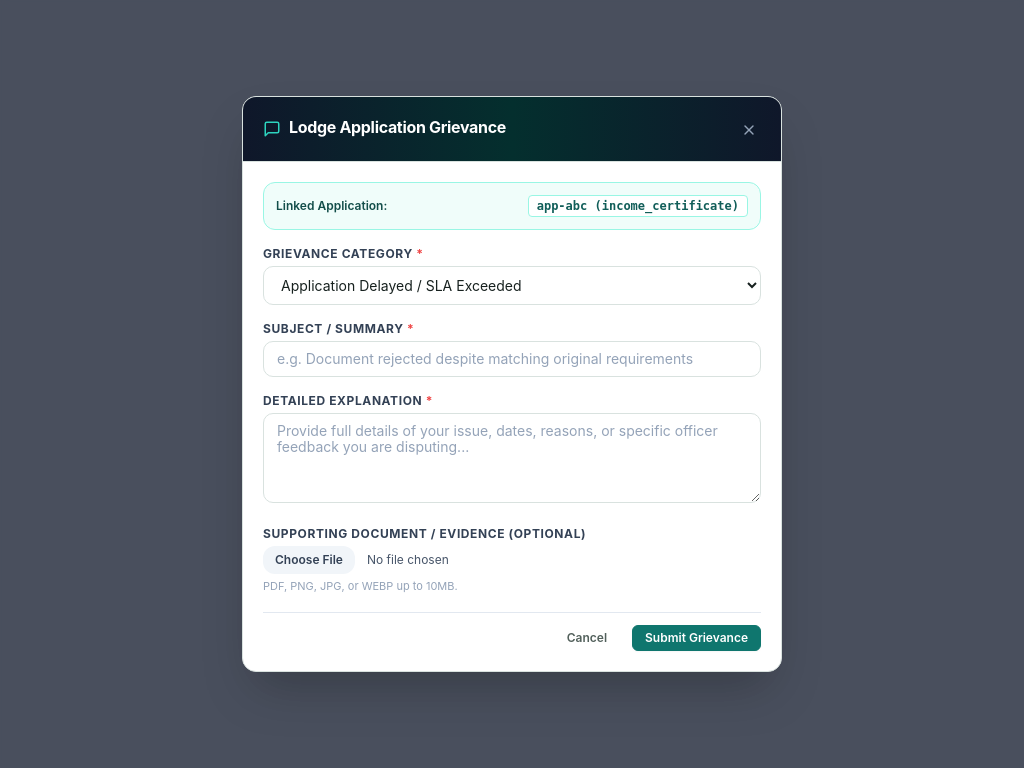
Test case: Civic Grievance & Escalation Module Frontend Tests › renders RaiseGrievanceModal and submits new grievance
Expected: the heading "Lodge Application Grievance" is shown, top-left (289, 115), bottom-right (506, 139)
Expected: the text "app-abc (income_certificate)" is shown, top-left (528, 195), bottom-right (748, 217)
Note: Fill subject and description
Replace the text in the field labelled "Subject / Summary *" with "Delay in processing" at {"x": 512, "y": 359}, box top-left (263, 341), bottom-right (761, 377)
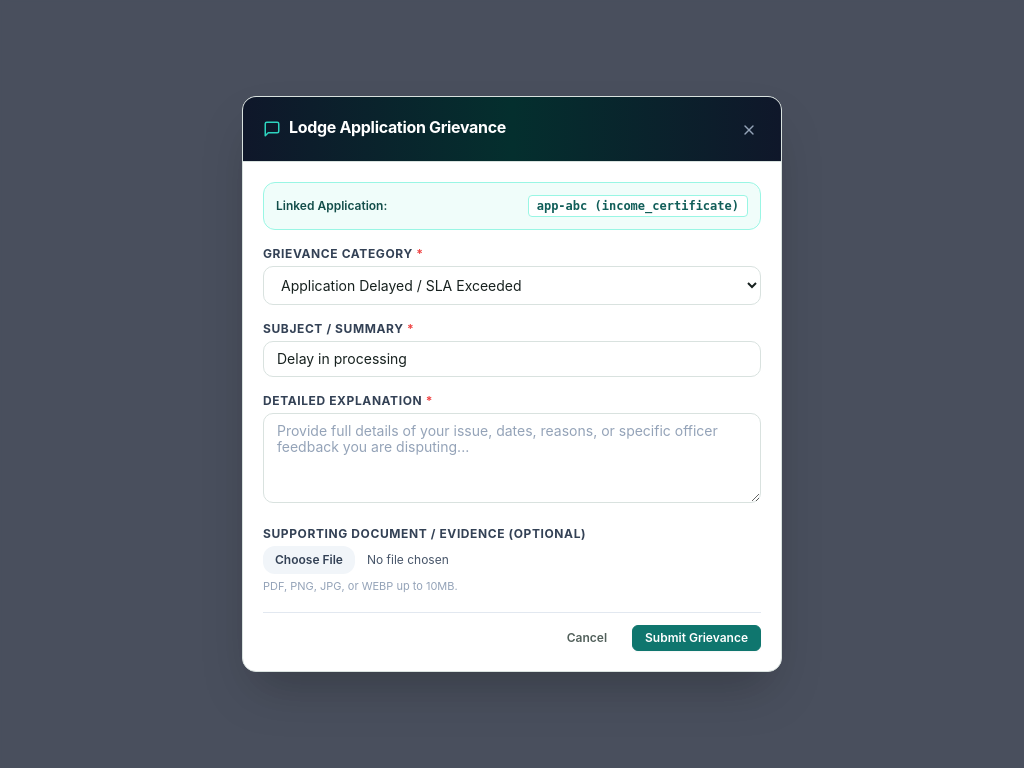
Replace the text in the text box labelled "Detailed Explanation *" with "My application has been pending past the statutory turnaround time." at {"x": 512, "y": 458}, box top-left (263, 413), bottom-right (761, 503)
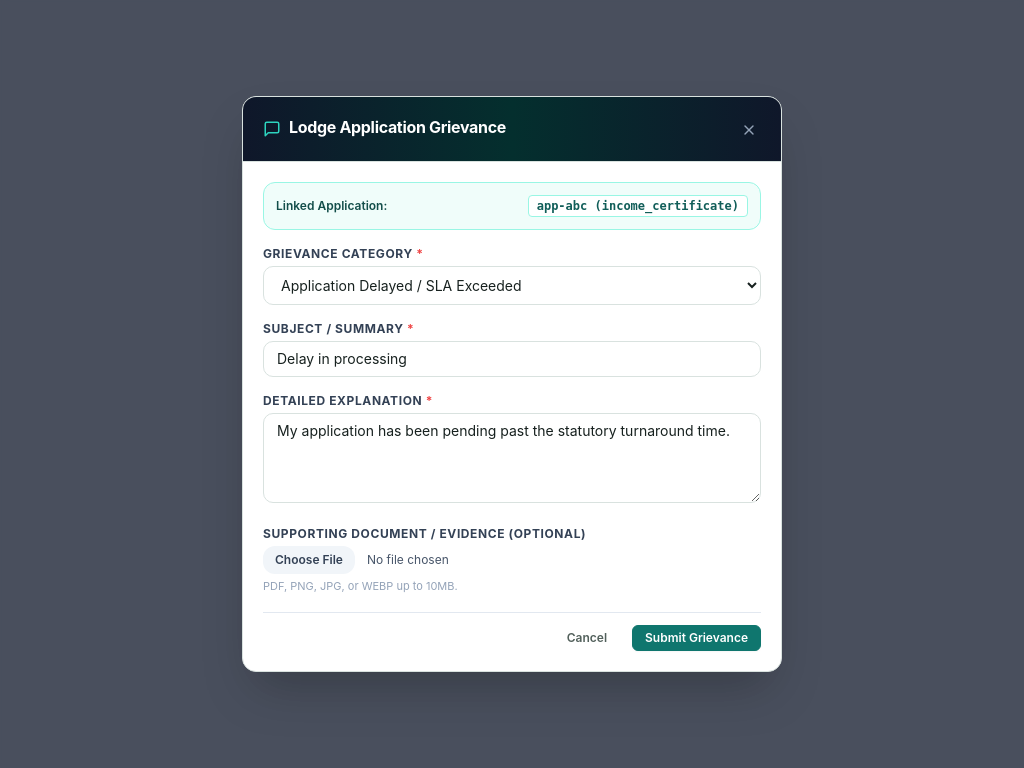
Click the button "Submit Grievance" at {"x": 696, "y": 638}, box top-left (632, 625), bottom-right (761, 651)
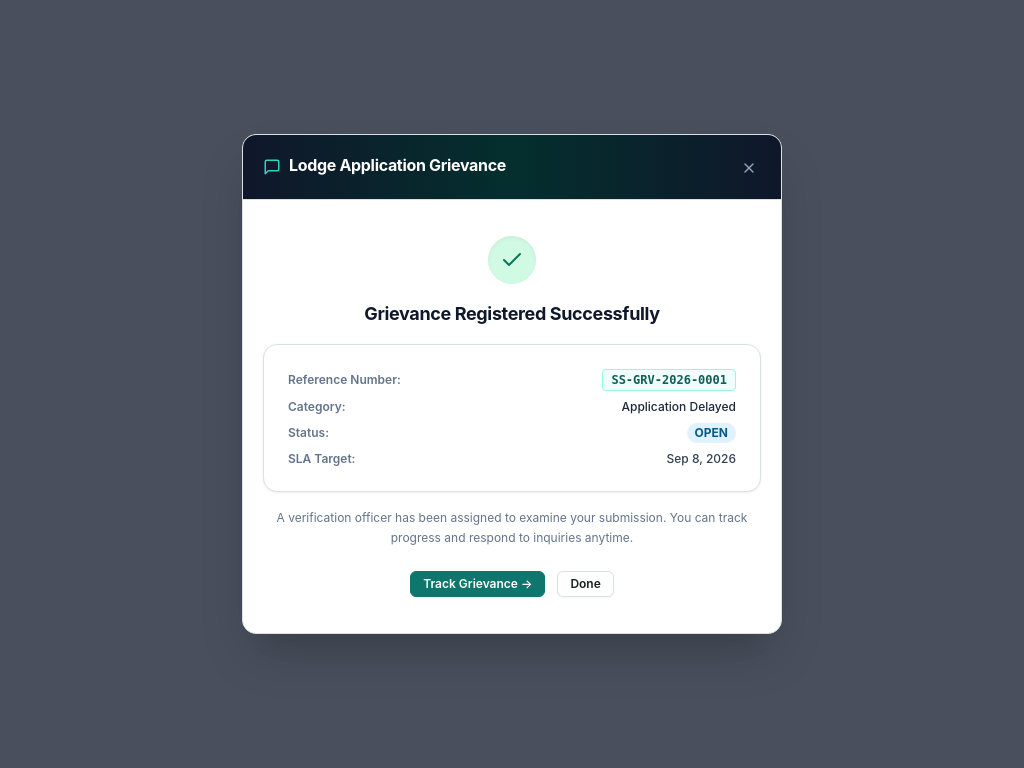
Expected: the heading "Grievance Registered Successfully" is shown, top-left (364, 303), bottom-right (660, 324)
Expected: the text "SS-GRV-2026-0001" is shown, top-left (602, 369), bottom-right (736, 391)
